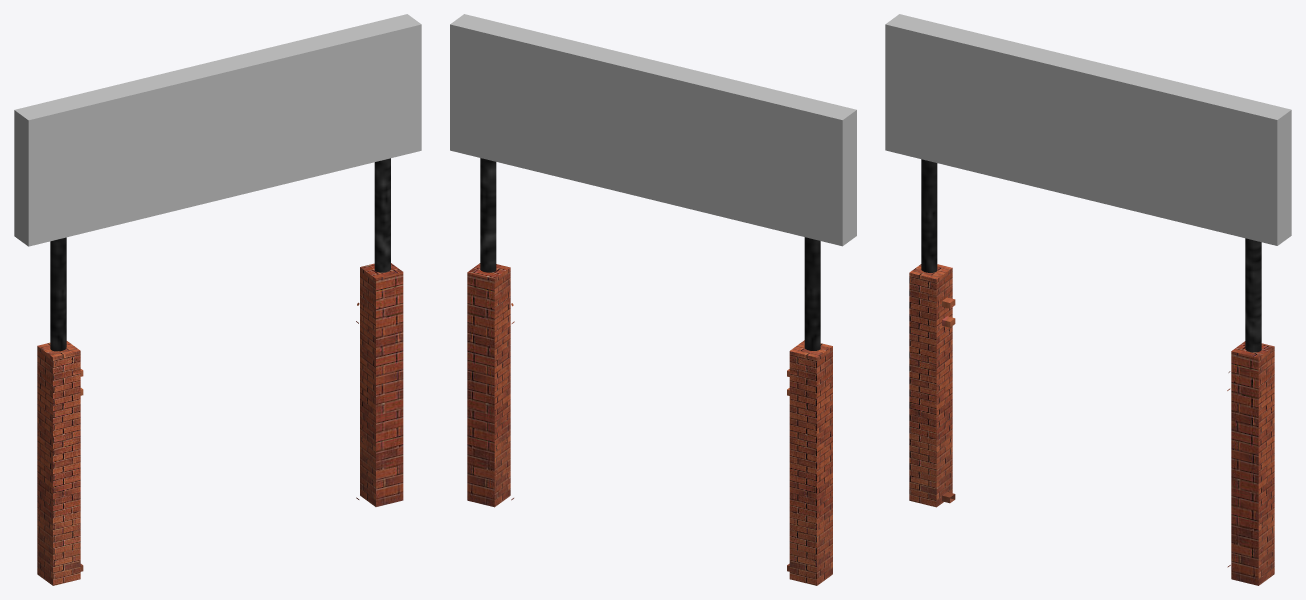
Rendered from PuertaReja.obj.
3 renders of one model, left to right at view 1: azimuth 30°, elevation 25°; view 2: azimuth 150°, elevation 25°; view 3: azimuth 330°, elevation 25°, orthographic.
Visible parts, largest first — view 1: main; view 2: main; view 3: main.
Part boxes in pixels (left/top/right/bottom): main: left=14, top=14, right=421, bottom=585; main: left=450, top=14, right=856, bottom=585; main: left=885, top=14, right=1291, bottom=585.
Size of the model in its own units: 2.81 by 3.22 by 0.197.
